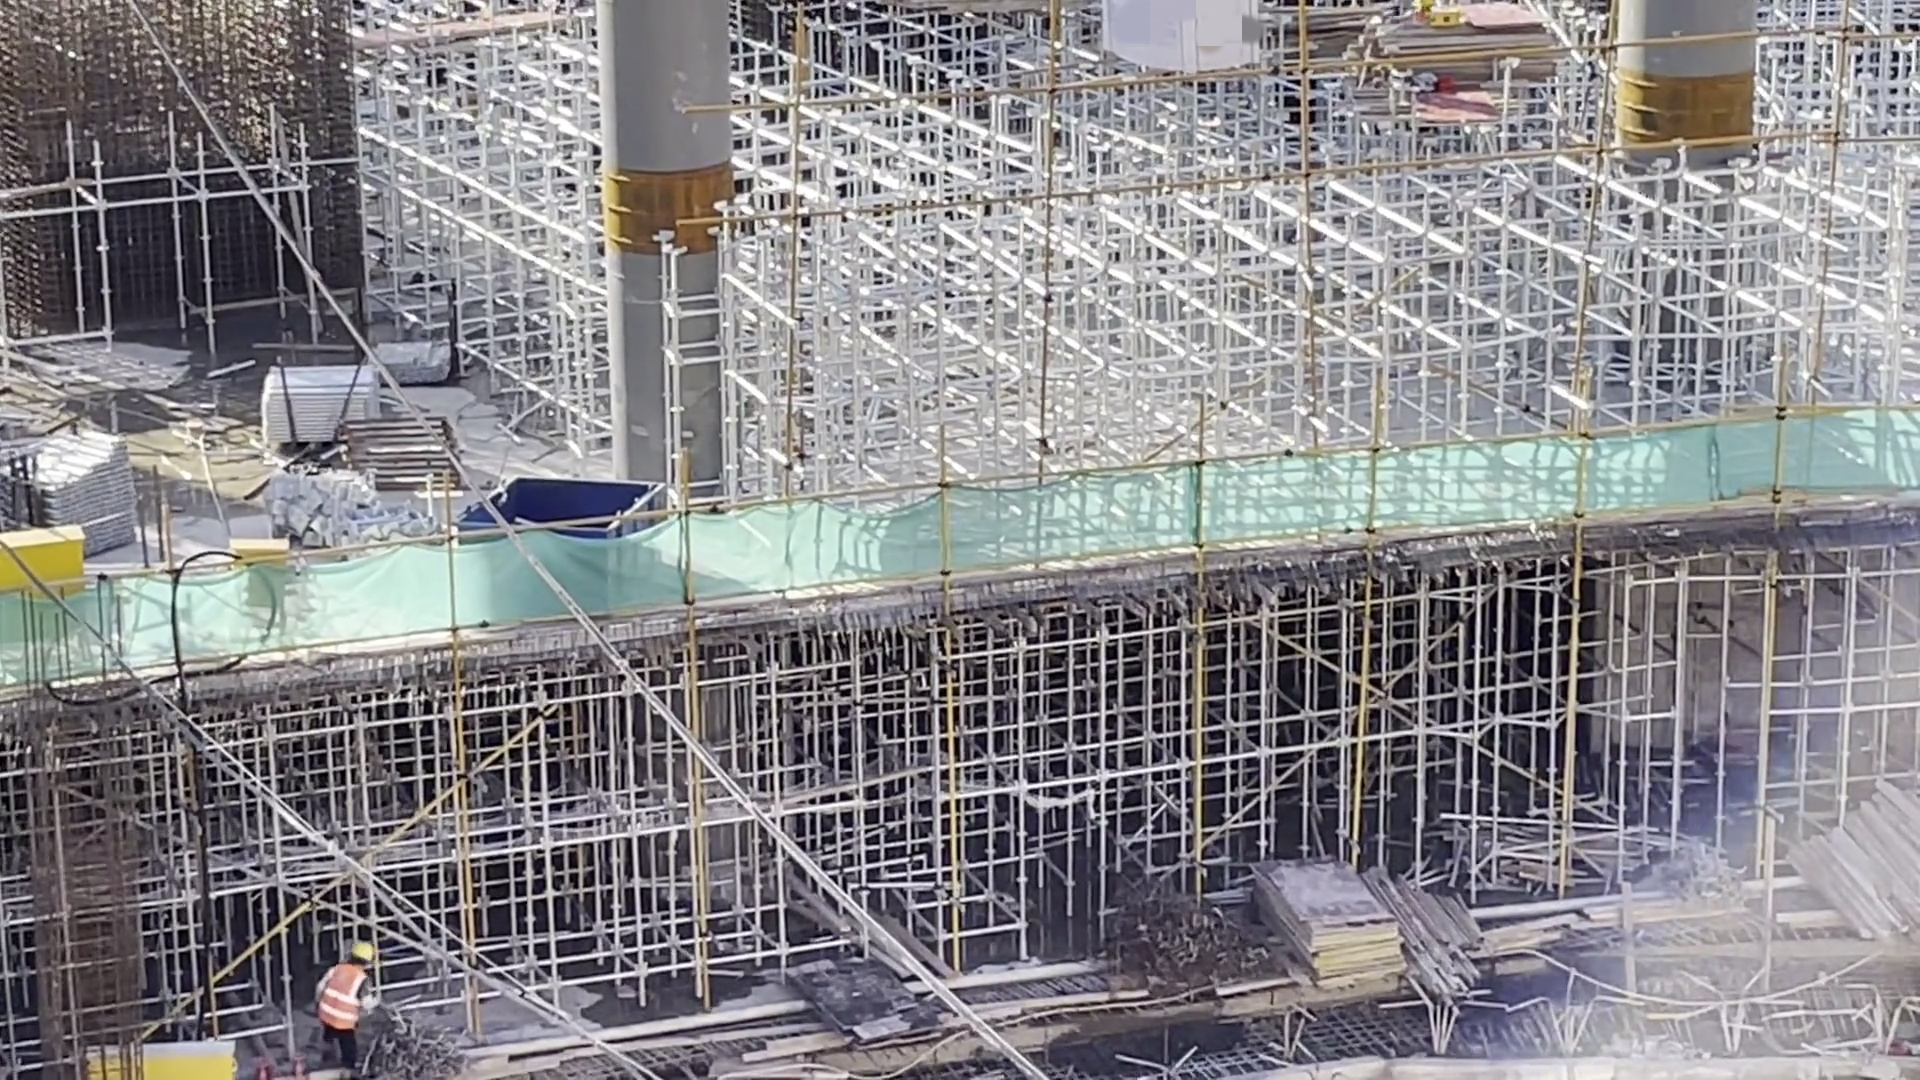board: (1224, 841, 1413, 987), (1404, 1, 1556, 97)
ebox: (1, 543, 98, 649), (198, 547, 308, 616), (101, 1032, 241, 1080)
helmet: (349, 941, 378, 961)
hopper: (474, 467, 713, 594)
person: (309, 933, 371, 1063)
scaffold: (18, 409, 133, 546), (258, 352, 386, 454)
vest: (311, 969, 363, 1029)
wood: (1788, 756, 1920, 892)
